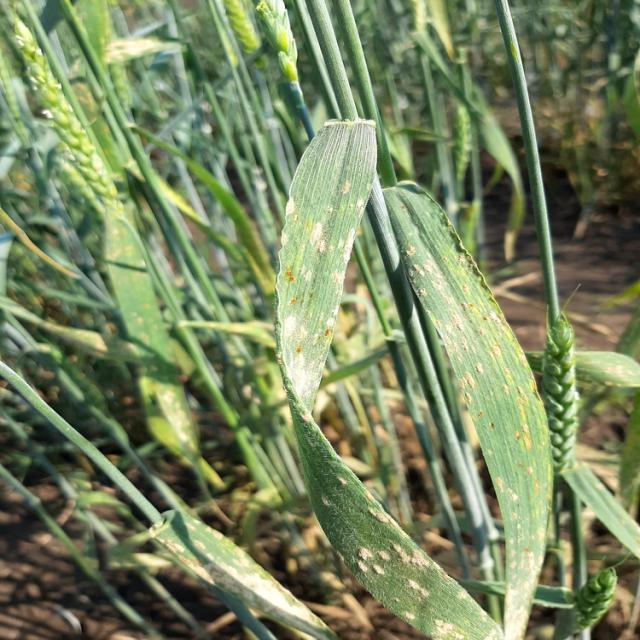wheat-powdery-mildew: (276, 120, 492, 640), (382, 187, 550, 640)
